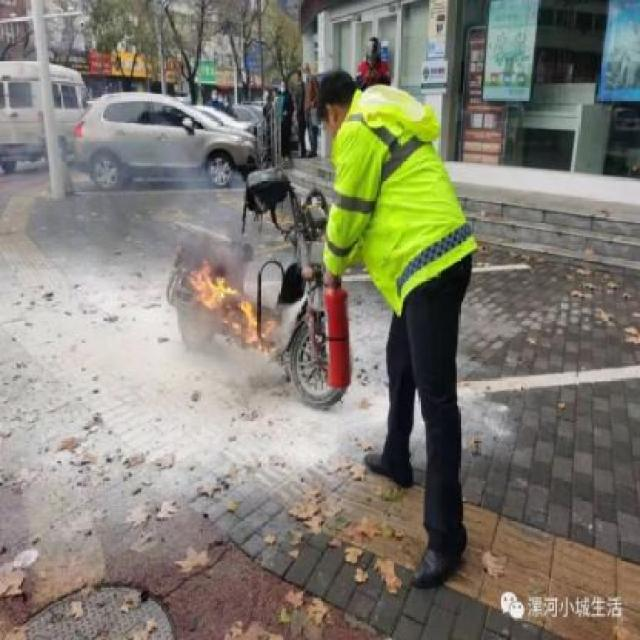Fire: (194, 264, 231, 308), (240, 297, 260, 343)
Smoke: (182, 190, 245, 270)
